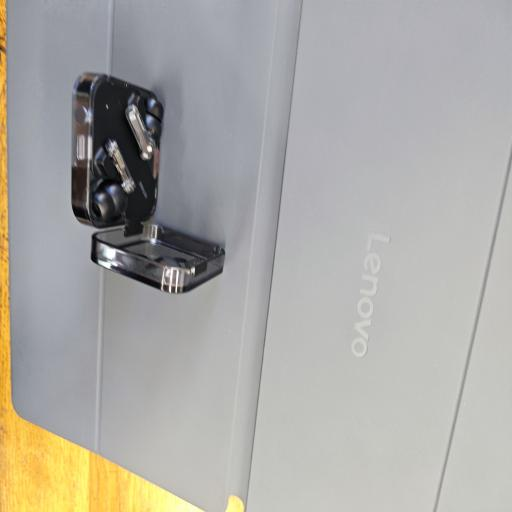Headphones: (68, 67, 230, 297)
